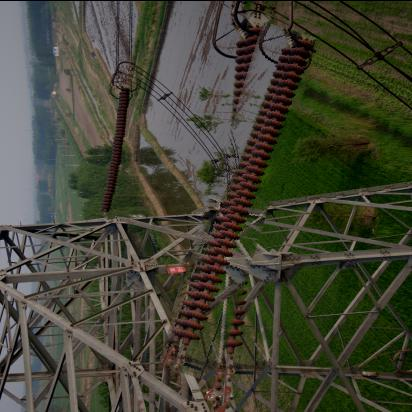insulator: (185, 22, 296, 382), (100, 86, 130, 217)
